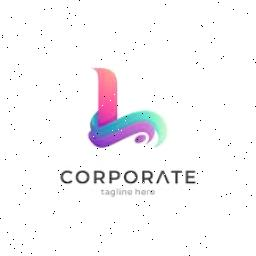l: (80, 46, 162, 156)
